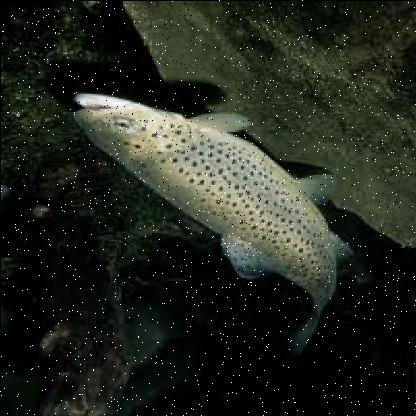fish: (70, 94, 358, 354)
